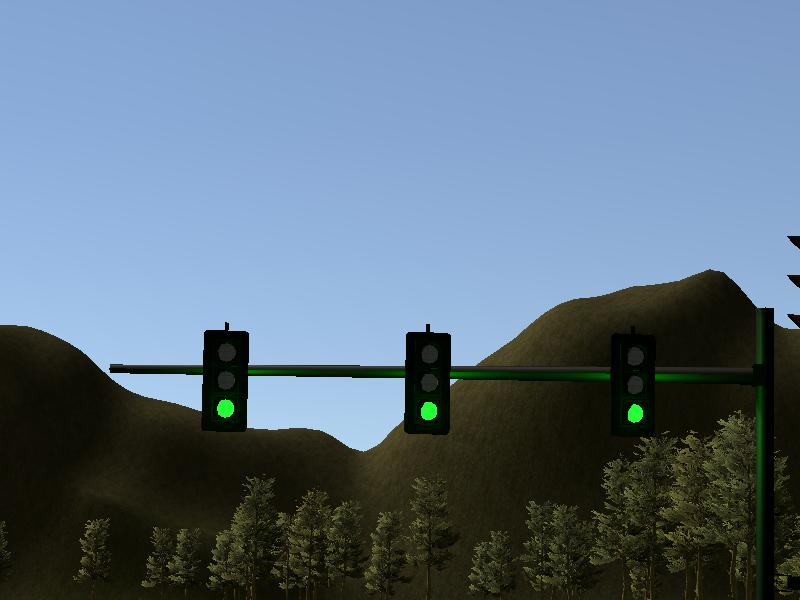Green: (204, 331, 247, 430), (612, 334, 654, 434), (407, 332, 448, 434)
